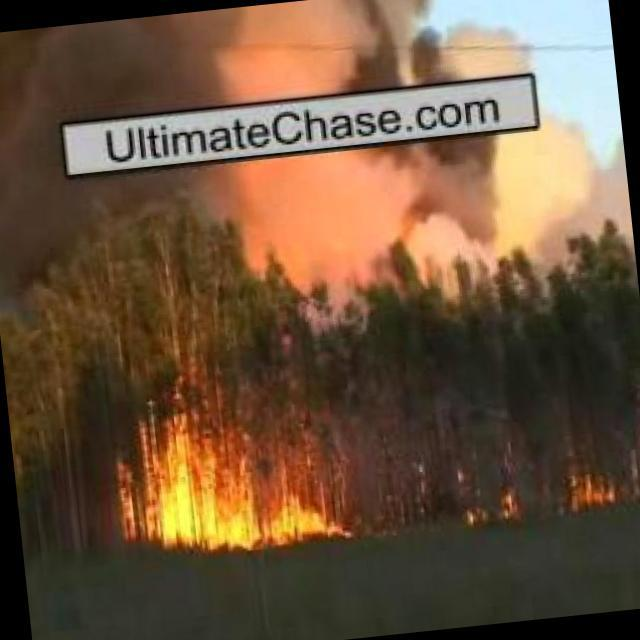Fire: (117, 409, 347, 561), (567, 463, 629, 515), (466, 485, 522, 527)
